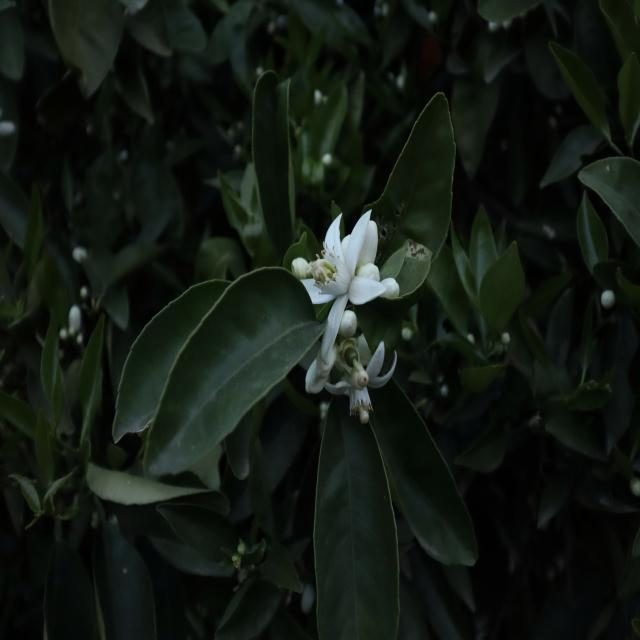Bunga: (301, 211, 384, 361), (322, 338, 399, 426), (306, 328, 371, 399), (338, 309, 358, 337), (378, 277, 400, 300), (68, 304, 82, 334), (602, 288, 616, 312)
